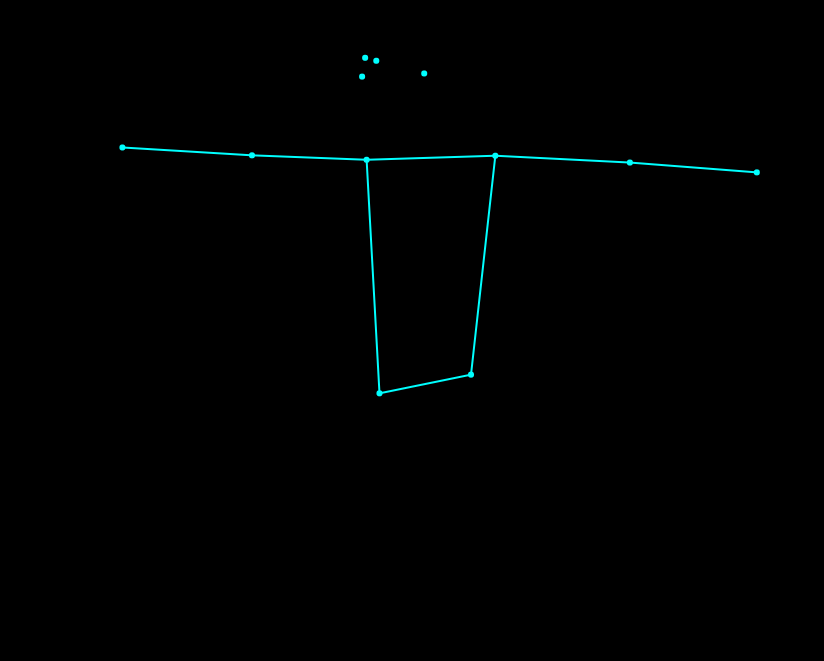warrior_2: (109, 32, 773, 406)
